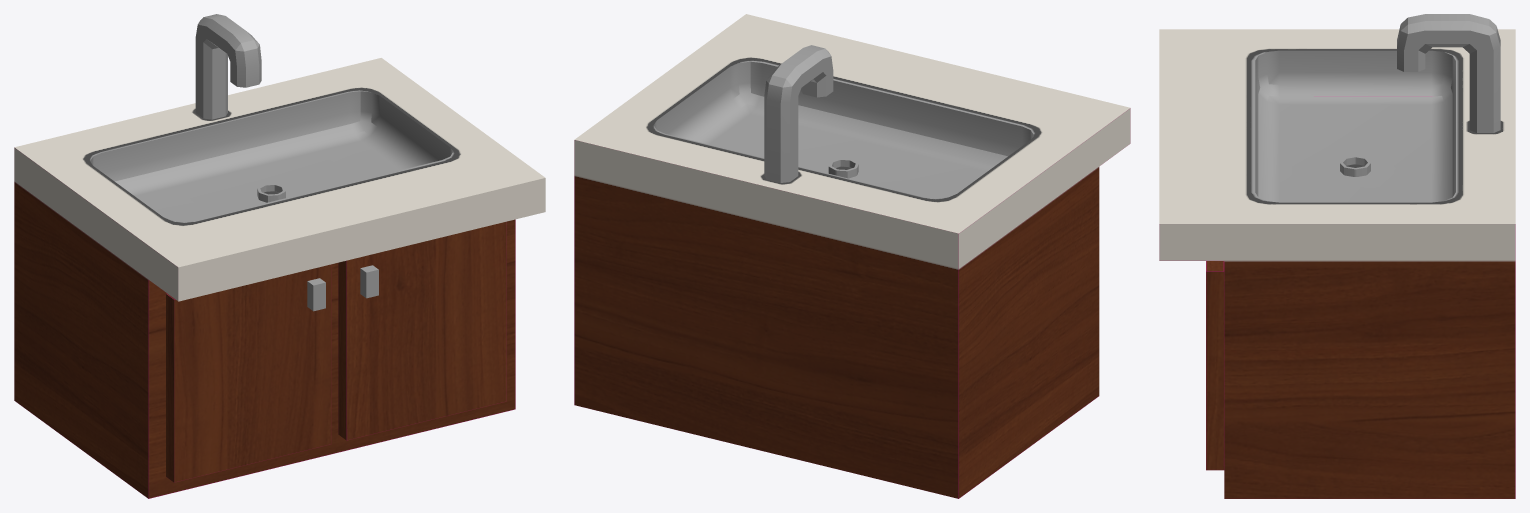
Rendered from kitchensink.fbx.
The picture shows the model from 3 angles, left to right: view 1: azimuth 30°, elevation 25°; view 2: azimuth 150°, elevation 25°; view 3: azimuth 270°, elevation 25°; orthographic projection. The views are drawn at different scales.
Visible parts, largest first — view 1: pCube6; view 2: pCube6; view 3: pCube6.
Boxes of the visible parts, x1,y1,x2,y2 form: pCube6: (14, 14, 545, 498); pCube6: (574, 14, 1130, 498); pCube6: (1159, 14, 1515, 498).
Size of the model in its own units: 14.88 by 13.7 by 11.52.
1 material, 1 textured.
